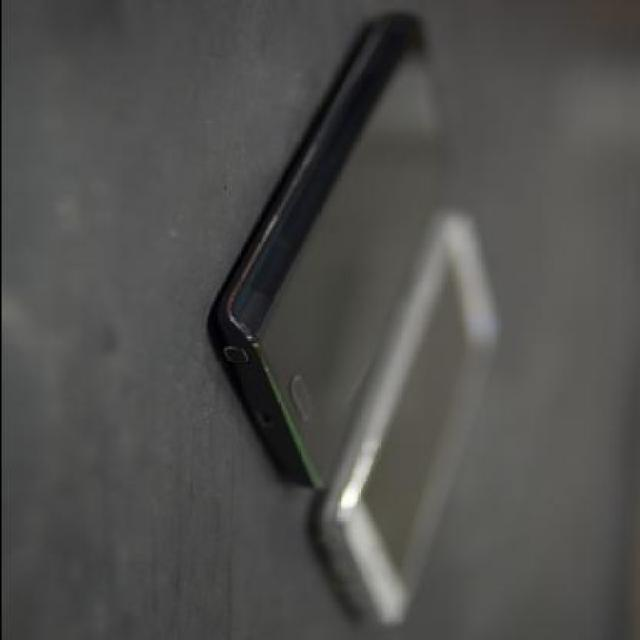phone: (207, 10, 456, 490), (312, 206, 496, 624)
